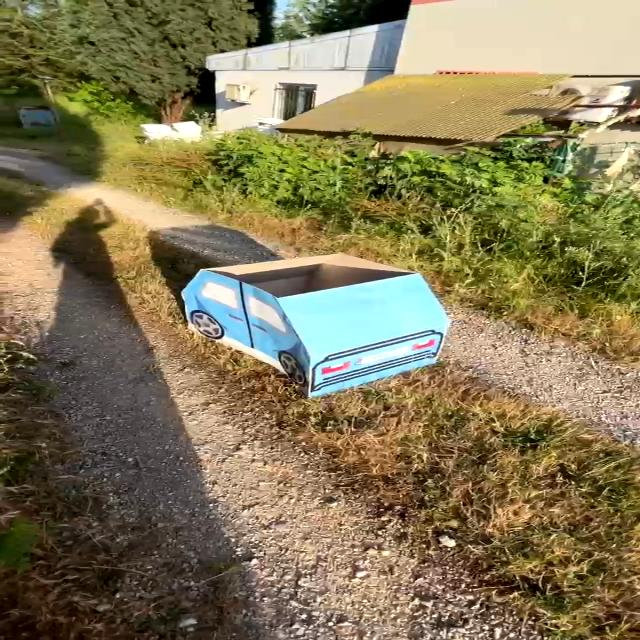blue_car: (132, 226, 496, 406)
